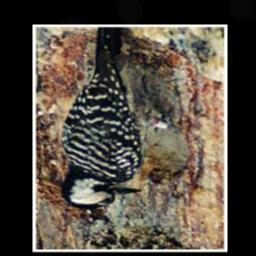Woodpecker: (53, 25, 184, 216)
